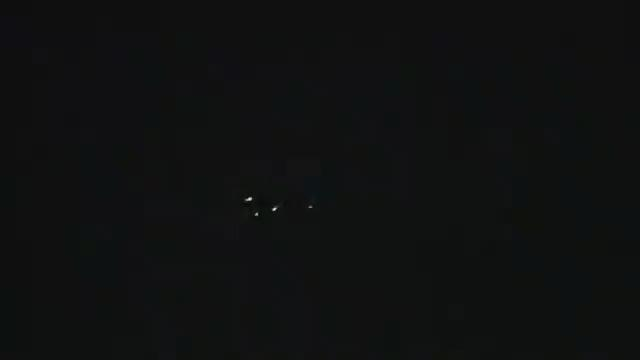Plane: (233, 177, 319, 222)
